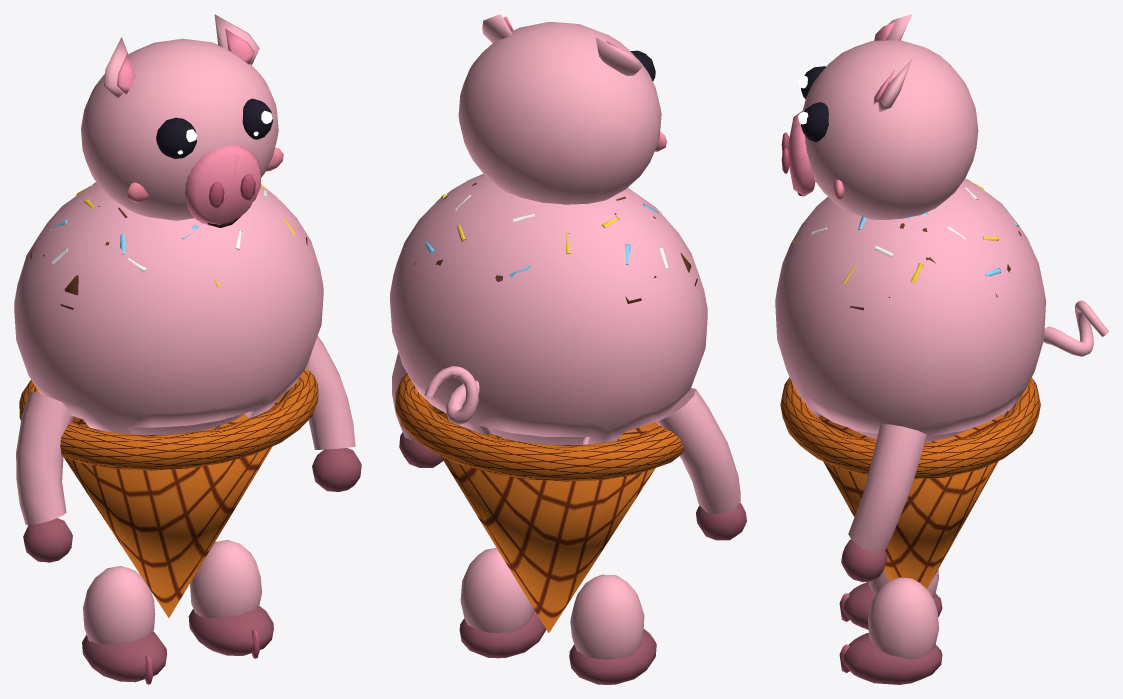
The model's file is pilot_gris2_is_lav.glb.
3 renders of one model, left to right at view 1: azimuth 30°, elevation 25°; view 2: azimuth 150°, elevation 25°; view 3: azimuth 270°, elevation 25°, orthographic. The views are drawn at different scales.
Visible parts, largest first — view 1: kropp, hode, bein_vf, vinge_v, bein_hf, vinge_h; view 2: kropp, hode, bein_vf, vinge_v, bein_hf, hale, vinge_h; view 3: kropp, hode, bein_hf, vinge_h, bein_vf, hale.
Part boxes in pixels (bbox=[...]): kropp: bbox=[14, 182, 323, 617]; hode: bbox=[81, 14, 283, 227]; bein_vf: bbox=[82, 566, 167, 684]; vinge_v: bbox=[16, 391, 73, 562]; bein_hf: bbox=[188, 540, 273, 658]; vinge_h: bbox=[305, 336, 361, 492]; kropp: bbox=[390, 173, 707, 632]; hode: bbox=[458, 14, 666, 204]; bein_vf: bbox=[569, 574, 656, 684]; vinge_v: bbox=[656, 388, 746, 540]; bein_hf: bbox=[459, 547, 546, 658]; hale: bbox=[424, 366, 479, 424]; vinge_h: bbox=[392, 352, 443, 467]; kropp: bbox=[775, 178, 1045, 588]; hode: bbox=[781, 14, 978, 219]; bein_hf: bbox=[839, 577, 942, 684]; vinge_h: bbox=[841, 424, 926, 582]; bein_vf: bbox=[839, 570, 942, 629]; hale: bbox=[1043, 300, 1108, 356].
Size of the model in its own units: 1.06 by 1.91 by 0.9365.
14 materials, 1 textured.
